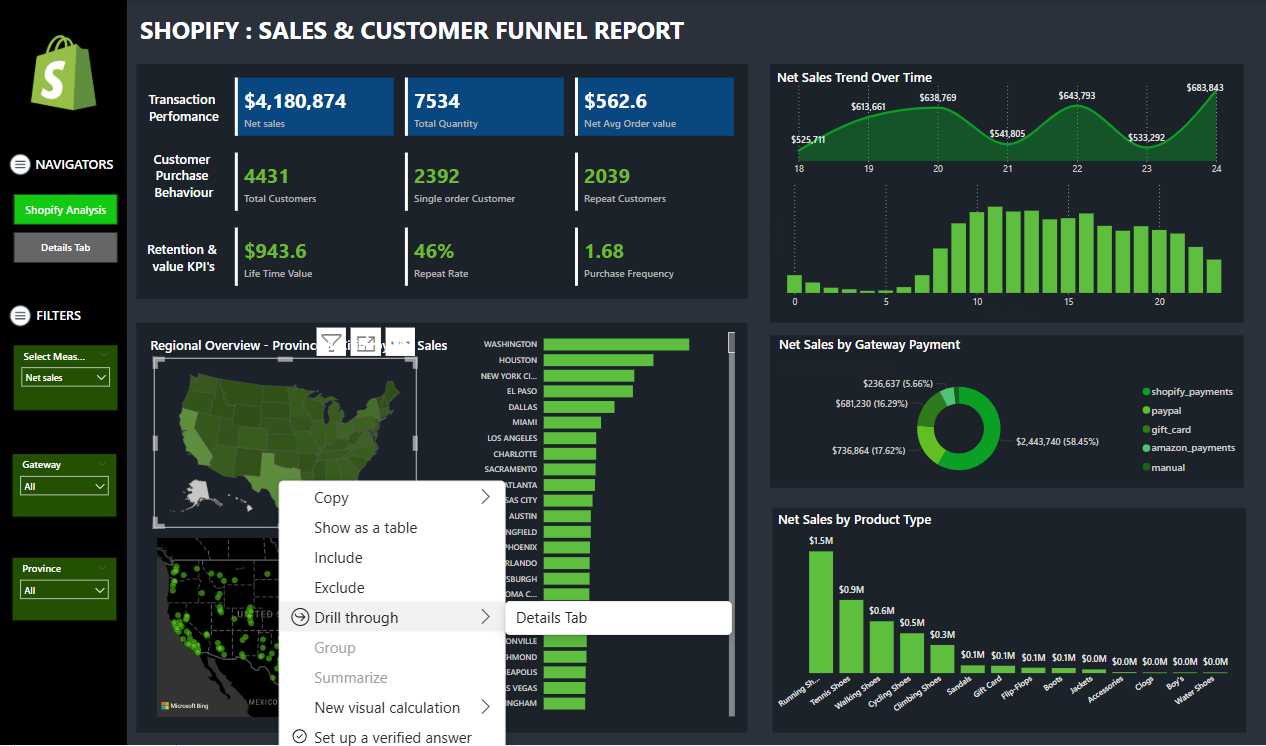

This screenshot's page, from the dashboard's own definition file:
{"tool":"powerbi","page":{"name":"Shopify Analysis","canvas":[1700,1000],"ordinal":0},"visuals":[{"type":"shape","box":[0,0,170,1000.5],"z":0},{"type":"textbox","box":[182.6,15.1,819.4,92.2],"z":1000},{"type":"shape","box":[182,87,820,315],"z":2000},{"type":"cardVisual","fields":{"Data":["shopify_sales.Net sales","shopify_sales.Total Quantity","shopify_sales.Net Avg Order value"]},"box":[310,100.5,680.3,88.8],"z":3000},{"type":"card","fields":{"Values":["shopify_sales.Tansaction perf"]},"box":[182.6,100.5,127.3,88.8],"z":4000},{"type":"cardVisual","fields":{"Data":["shopify_sales.Total Customers","shopify_sales.Single order Customer","shopify_sales.Repeat Customers"]},"box":[310,201.1,680.3,88.8],"z":5000},{"type":"card","fields":{"Values":["shopify_sales.Customer Purchase"]},"box":[182.6,189.3,127.3,88.8],"z":6000},{"type":"cardVisual","fields":{"Data":["shopify_sales.Life Time Value","shopify_sales.Repeat Rate","shopify_sales.Purchase Frequency"]},"box":[310,301.6,680.3,88.8],"z":7000},{"type":"card","fields":{"Values":["shopify_sales.Retention & value KPI's"]},"box":[182.6,301.6,127.3,88.8],"z":8000},{"type":"shape","box":[182.6,434,819.4,549.6],"z":9000},{"type":"shapeMap","fields":{"Value":["shopify_sales.Net sales"],"Category":["shopify_sales.Billing Address Province"]},"box":[206.1,480.9,351.9,227.9],"z":10000},{"type":"slicer","fields":{"Values":["Select Measure 2.Select Measure"]},"box":[18.4,464.1,139.1,87.1],"z":11000},{"type":"map","fields":{"Category":["shopify_sales.Location"]},"box":[206.1,717.2,351.9,249.7],"z":12000},{"type":"clusteredBarChart","fields":{"Y":["shopify_sales.Net sales"],"Category":["shopify_sales.CITY"]},"box":[625,434,365.3,532.8],"z":13000},{"type":"card","fields":{"Values":["shopify_sales.Map title"]},"box":[169.2,447.4,462.5,38.5],"z":14000},{"type":"shape","box":[1032.2,87.1,635.1,346.9],"z":15000},{"type":"areaChart","fields":{"Y":["shopify_sales.Net sales"],"Category":["shopify_sales.Invoice Date.Variation.Date Hierarchy.Day"]},"box":[1055.6,100.5,589.8,145.8],"z":16000},{"type":"columnChart","fields":{"Y":["shopify_sales.Net sales"],"Category":["shopify_sales.Hourly Bases"]},"box":[1032.2,234.6,635.1,199.4],"z":17000},{"type":"card","fields":{"Values":["shopify_sales.Trend Over Time"]},"box":[1032.2,87.1,231.2,38.5],"z":18000},{"type":"shape","box":[1032.2,450.7,635.1,204.4],"z":19000},{"type":"donutChart","fields":{"Y":["shopify_sales.Net sales"],"Category":["shopify_sales.Gateway"]},"box":[1035.5,480.9,635.1,170.9],"z":20000},{"type":"card","fields":{"Values":["shopify_sales.Payment Method"]},"box":[1032.2,447.4,271.4,33.5],"z":21000},{"type":"shape","box":[1035.5,682,635.1,301.6],"z":22000},{"type":"columnChart","fields":{"Y":["shopify_sales.Net sales"],"Category":["shopify_sales.Product Type"]},"box":[1035.5,698.7,631.7,268.1],"z":23000},{"type":"card","fields":{"Values":["shopify_sales.Product category"]},"box":[1032.2,682,231.2,35.2],"z":24000},{"type":"image","box":[30.2,43.6,110.6,110.6],"z":25000},{"type":"slicer","fields":{"Values":["shopify_sales.Gateway"]},"box":[16.8,609.9,139.1,83.8],"z":26000},{"type":"slicer","fields":{"Values":["shopify_sales.Billing Address Province"]},"box":[16.8,749,139.1,83.8],"z":27000},{"type":"pageNavigator","box":[18.4,261.4,139.1,92.2],"z":28000},{"type":"image","box":[0,199.4,53.6,45.2],"z":29000},{"type":"card","fields":{"Values":["shopify_sales.navigator"]},"box":[30.2,201.1,139.1,45.2],"z":30000},{"type":"card","fields":{"Values":["shopify_sales.Filter"]},"box":[30.2,402.1,97.2,48.6],"z":31000},{"type":"image","box":[0,402.1,53.6,45.2],"z":32000}]}

Visuals, with their boxes on the page's 1700x1000 design canvas (x1, y1, x2, y2). These are canvas units, not pixel positions in the 1266x746 screenshot, which may show the page scaled, cropped or inside an application window:
shape: Rect(0, 0, 170, 1000)
textbox: Rect(183, 15, 1002, 107)
shape: Rect(182, 87, 1002, 402)
cardVisual - shopify_sales.Net sales x shopify_sales.Total Quantity: Rect(310, 100, 990, 189)
card - shopify_sales.Tansaction perf: Rect(183, 100, 310, 189)
cardVisual - shopify_sales.Total Customers x shopify_sales.Single order Customer: Rect(310, 201, 990, 290)
card - shopify_sales.Customer Purchase: Rect(183, 189, 310, 278)
cardVisual - shopify_sales.Life Time Value x shopify_sales.Repeat Rate: Rect(310, 302, 990, 390)
card - shopify_sales.Retention & value KPI's: Rect(183, 302, 310, 390)
shape: Rect(183, 434, 1002, 984)
shapeMap - shopify_sales.Net sales x shopify_sales.Billing Address Province: Rect(206, 481, 558, 709)
slicer - Select Measure 2.Select Measure: Rect(18, 464, 158, 551)
map - shopify_sales.Location: Rect(206, 717, 558, 967)
clusteredBarChart - shopify_sales.Net sales x shopify_sales.CITY: Rect(625, 434, 990, 967)
card - shopify_sales.Map title: Rect(169, 447, 632, 486)
shape: Rect(1032, 87, 1667, 434)
areaChart - shopify_sales.Net sales x shopify_sales.Invoice Date.Variation.Date Hierarchy.Day: Rect(1056, 100, 1645, 246)
columnChart - shopify_sales.Net sales x shopify_sales.Hourly Bases: Rect(1032, 235, 1667, 434)
card - shopify_sales.Trend Over Time: Rect(1032, 87, 1263, 126)
shape: Rect(1032, 451, 1667, 655)
donutChart - shopify_sales.Net sales x shopify_sales.Gateway: Rect(1036, 481, 1671, 652)
card - shopify_sales.Payment Method: Rect(1032, 447, 1304, 481)
shape: Rect(1036, 682, 1671, 984)
columnChart - shopify_sales.Net sales x shopify_sales.Product Type: Rect(1036, 699, 1667, 967)
card - shopify_sales.Product category: Rect(1032, 682, 1263, 717)
image: Rect(30, 44, 141, 154)
slicer - shopify_sales.Gateway: Rect(17, 610, 156, 694)
slicer - shopify_sales.Billing Address Province: Rect(17, 749, 156, 833)
pageNavigator: Rect(18, 261, 158, 354)
image: Rect(0, 199, 54, 245)
card - shopify_sales.navigator: Rect(30, 201, 169, 246)
card - shopify_sales.Filter: Rect(30, 402, 127, 451)
image: Rect(0, 402, 54, 447)
